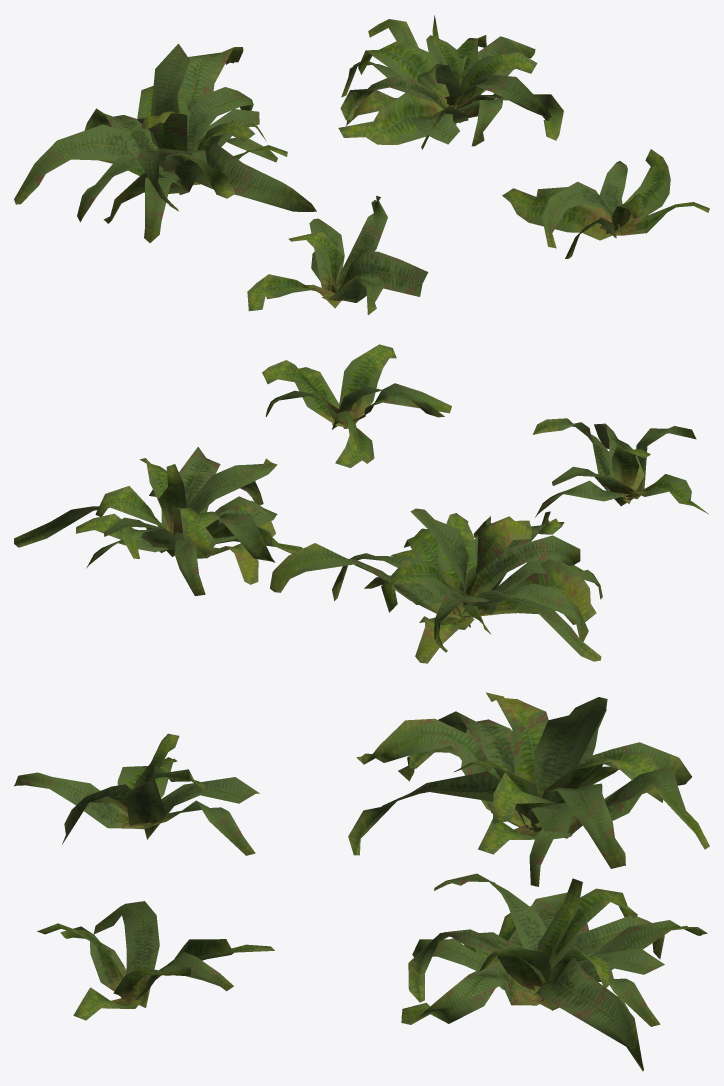
File: fern_02.glb
3 views of the same model, one above another, from view 1: azimuth 30°, elevation 25°; view 2: azimuth 150°, elevation 25°; view 3: azimuth 270°, elevation 25° (orthographic). The views are drawn at different scales.
Parts seen in each view (by area): view 1: fern_02_b, fern_02_c, fern_02_d, fern_02_a; view 2: fern_02_b, fern_02_c, fern_02_d, fern_02_a; view 3: fern_02_b, fern_02_c, fern_02_a, fern_02_d.
Boxes of the visible parts, <box> form: fern_02_b: <box>14,43,316,242</box>; fern_02_c: <box>338,15,563,149</box>; fern_02_d: <box>502,149,709,258</box>; fern_02_a: <box>247,195,428,315</box>; fern_02_b: <box>270,508,602,663</box>; fern_02_c: <box>14,447,302,596</box>; fern_02_d: <box>262,344,451,467</box>; fern_02_a: <box>532,418,708,517</box>; fern_02_b: <box>348,692,709,886</box>; fern_02_c: <box>401,873,707,1070</box>; fern_02_a: <box>14,733,259,855</box>; fern_02_d: <box>37,901,274,1020</box>.
Size of the model in its own units: 1.97 by 0.4277 by 1.72.
Materials: 1 (1 with a texture image).
